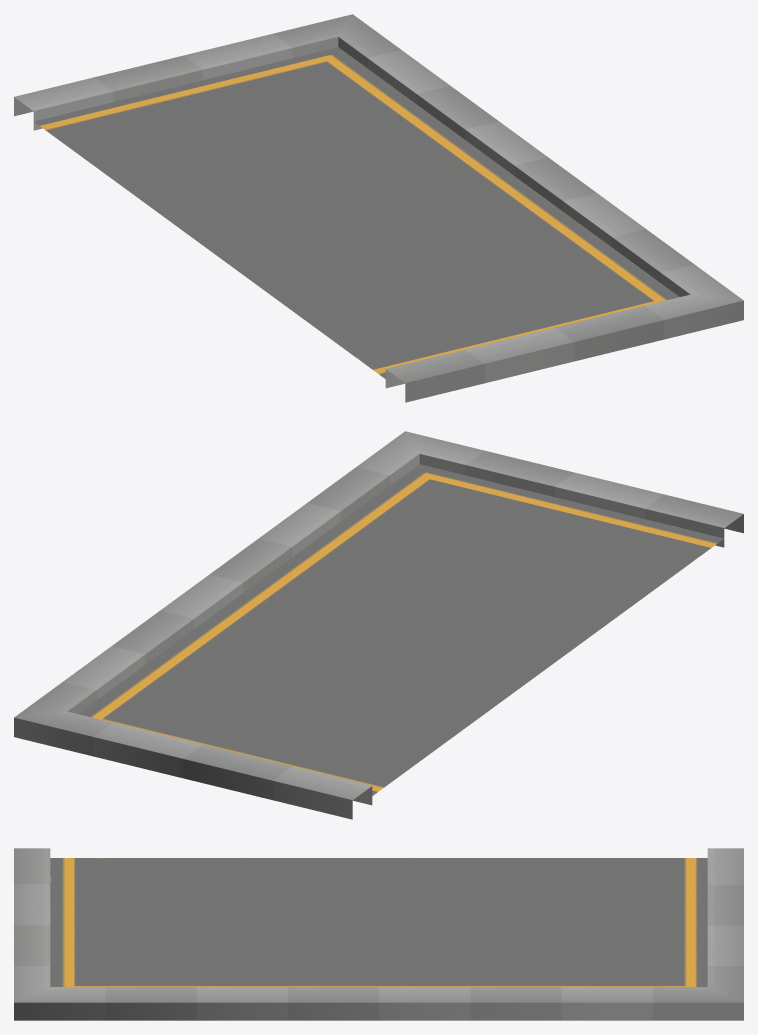
File: Road_E.fbx
3 views of the same model, one above another, from view 1: azimuth 30°, elevation 25°; view 2: azimuth 150°, elevation 25°; view 3: azimuth 270°, elevation 25° (orthographic). The views are drawn at different scales.
Parts seen in each view (by area): view 1: Road_E; view 2: Road_E; view 3: Road_E.
Boxes of the visible parts, x1=… form: Road_E: x1=14, y1=14, x2=743, y2=402; Road_E: x1=14, y1=431, x2=743, y2=819; Road_E: x1=14, y1=848, x2=743, y2=1020.
Size of the model in its own units: 1000 by 55.12 by 2000.
